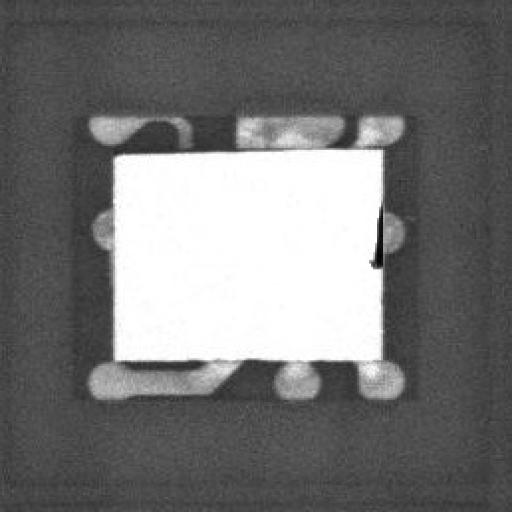DIE_BROKEN: (365, 203, 385, 271)
